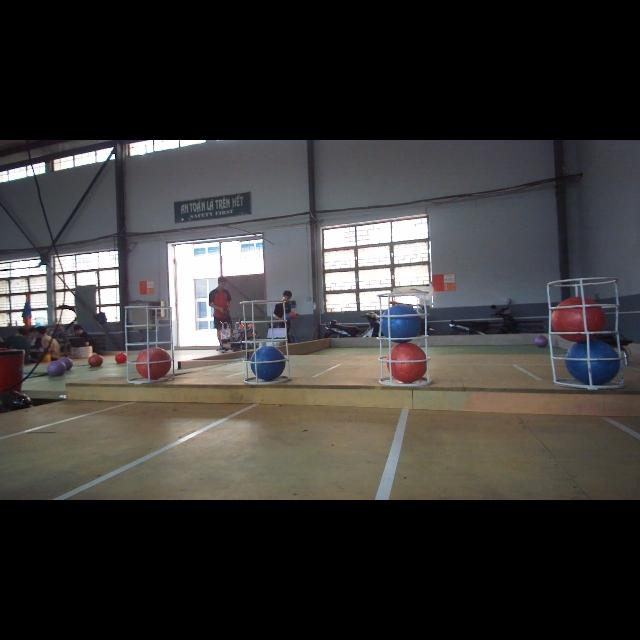B: (565, 344, 621, 386), (380, 304, 424, 344), (250, 345, 286, 381)
R: (550, 296, 608, 342), (387, 344, 427, 384), (137, 348, 171, 380)
